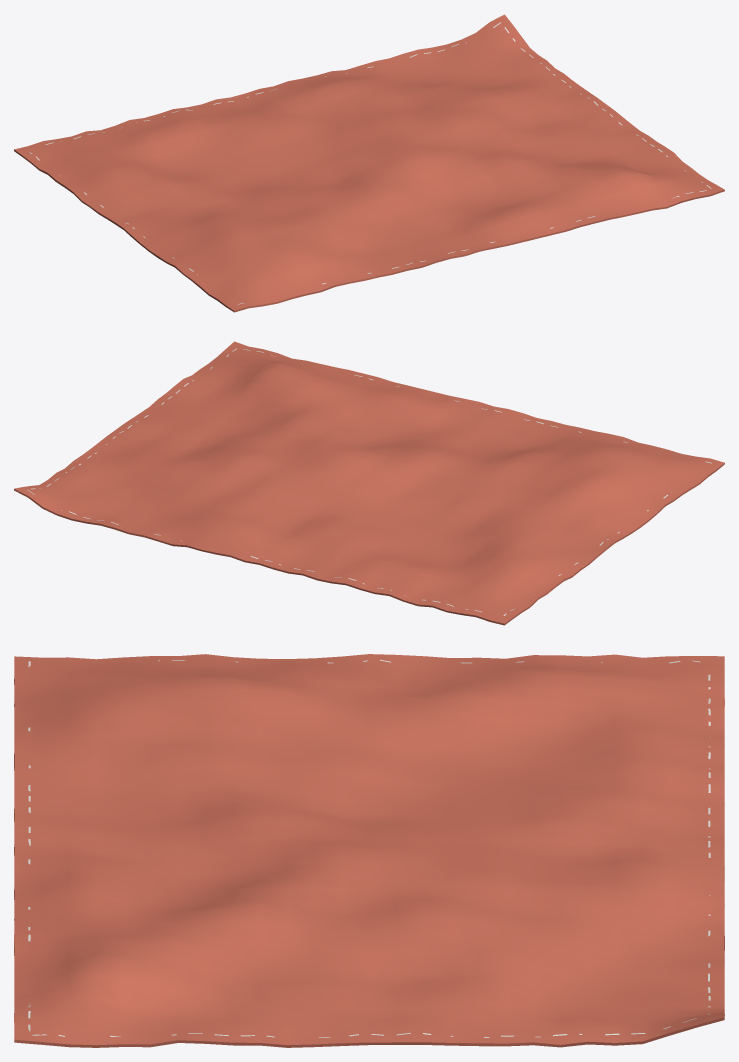
The model's file is blanket.glb.
The picture shows the model from 3 angles, top to bottom: view 1: azimuth 30°, elevation 25°; view 2: azimuth 150°, elevation 25°; view 3: azimuth 270°, elevation 25°; orthographic projection. The views are drawn at different scales.
Parts seen in each view (by area): view 1: SM_Jam_Blanket; view 2: SM_Jam_Blanket; view 3: SM_Jam_Blanket.
Boxes of the visible parts, x1,y1,x2,y2 form: SM_Jam_Blanket: (14, 14, 724, 312); SM_Jam_Blanket: (14, 341, 724, 625); SM_Jam_Blanket: (14, 654, 724, 1047).
Size of the model in its own units: 1.8 by 0.0665 by 1.4.
